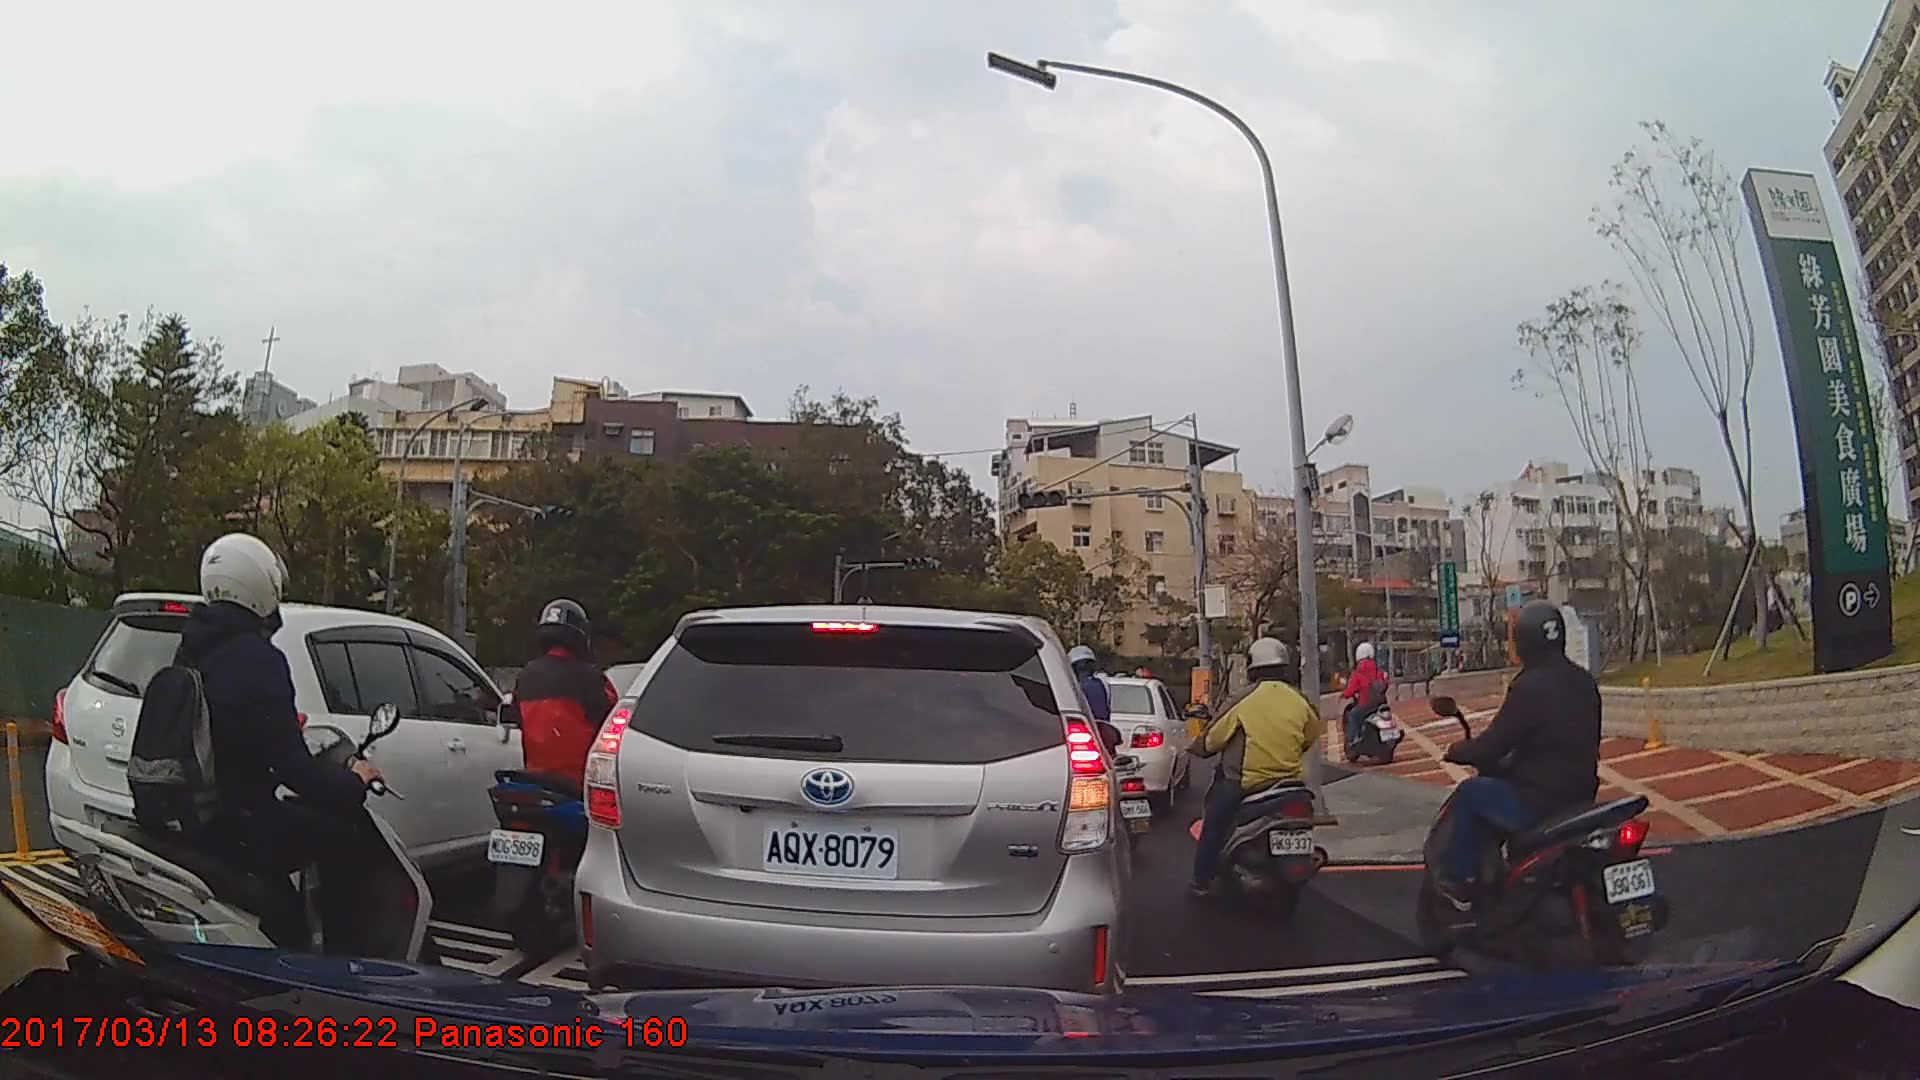pedestrian: (1752, 561, 1794, 637), (1747, 575, 1781, 638)
rider: (57, 531, 439, 1032), (1413, 598, 1664, 991), (481, 595, 645, 959), (1185, 636, 1326, 909), (1329, 639, 1402, 763)
vehicle: (572, 602, 1132, 1021), (42, 591, 577, 923), (1064, 674, 1193, 815)
